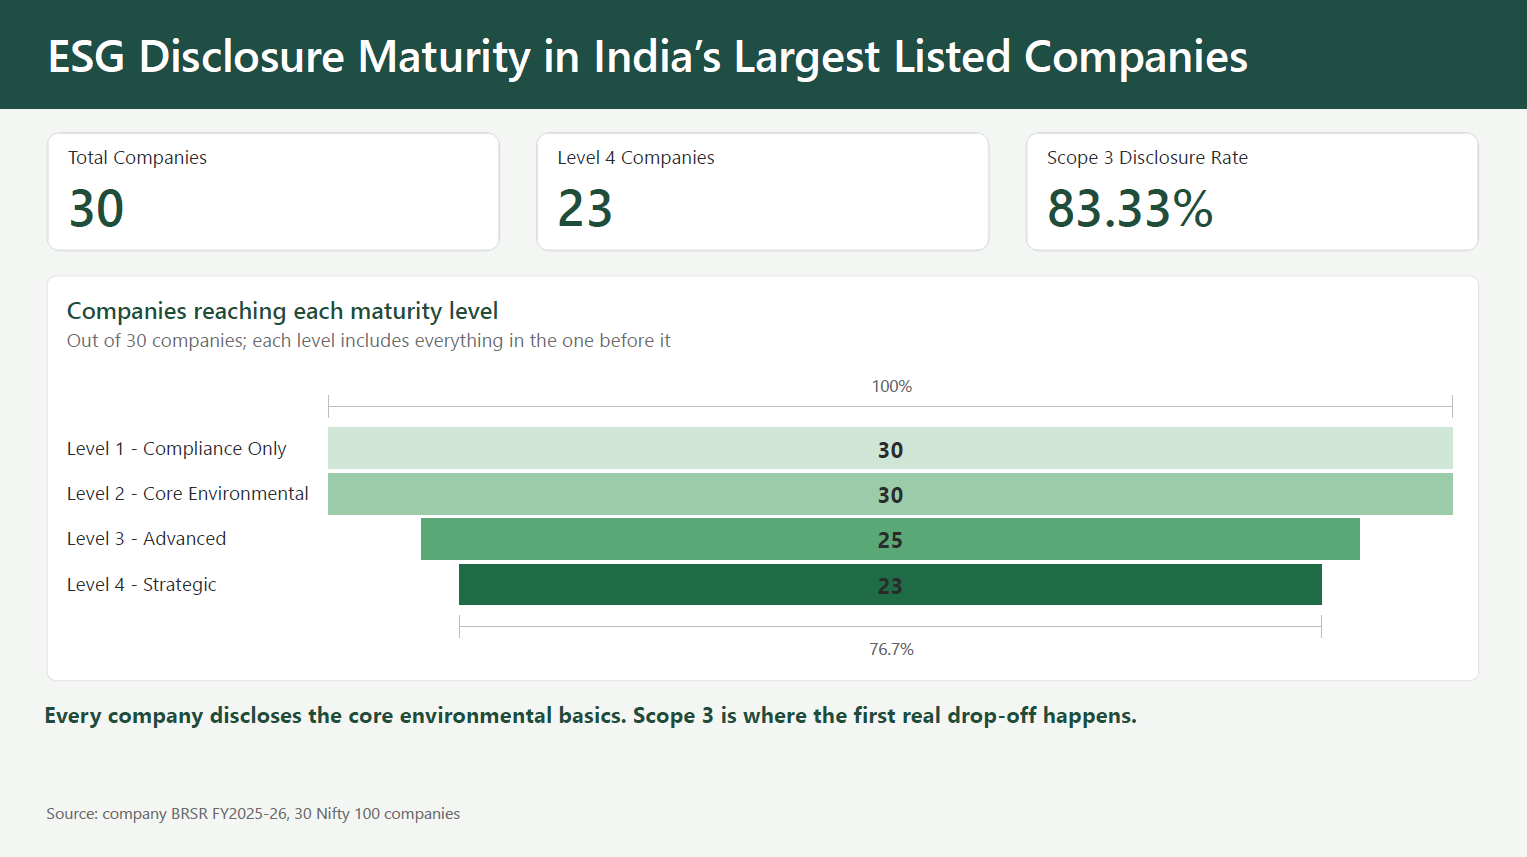

The page's visual inventory and layout, read from the dashboard file:
{"tool":"powerbi","page":{"name":"Headline","canvas":[1280,720],"ordinal":0},"visuals":[{"type":"shape","box":[0,0,1280,90],"z":0},{"type":"cardVisual","fields":{"Data":["dashboard_data.Total Companies"]},"box":[40,110,380,100],"z":1000},{"type":"funnel","title":"Companies reaching each maturity level","fields":{"Category":["Funnel_Stages.Stage"],"Y":["Funnel_Stages.Companies Reaching Stage"]},"box":[40,230,1200,340],"z":2000},{"type":"cardVisual","fields":{"Data":["Funnel_Stages.Level 4 Companies"]},"box":[450,110,380,100],"z":3000},{"type":"cardVisual","fields":{"Data":["Funnel_Stages.Scope 3 Disclosure Rate"]},"box":[860,110,380,100],"z":4000},{"type":"textbox","box":[38.4,584.6,967.4,50.8],"z":5000},{"type":"textbox","box":[0,0,1280.3,90.6],"z":6000},{"type":"textbox","box":[40,670,671,30],"z":7000}]}

Visuals, with their boxes in screenshot pixels (x1, y1, x2, y2), scaled from the page's 1280x720 canvas onto the 1527x857 screenshot:
shape: box(0, 0, 1526, 107)
cardVisual - dashboard_data.Total Companies: box(48, 131, 501, 250)
"Companies reaching each maturity level" funnel: box(48, 274, 1479, 678)
cardVisual - Funnel_Stages.Level 4 Companies: box(537, 131, 990, 250)
cardVisual - Funnel_Stages.Scope 3 Disclosure Rate: box(1026, 131, 1479, 250)
textbox: box(46, 696, 1200, 756)
textbox: box(0, 0, 1526, 108)
textbox: box(48, 797, 848, 833)
